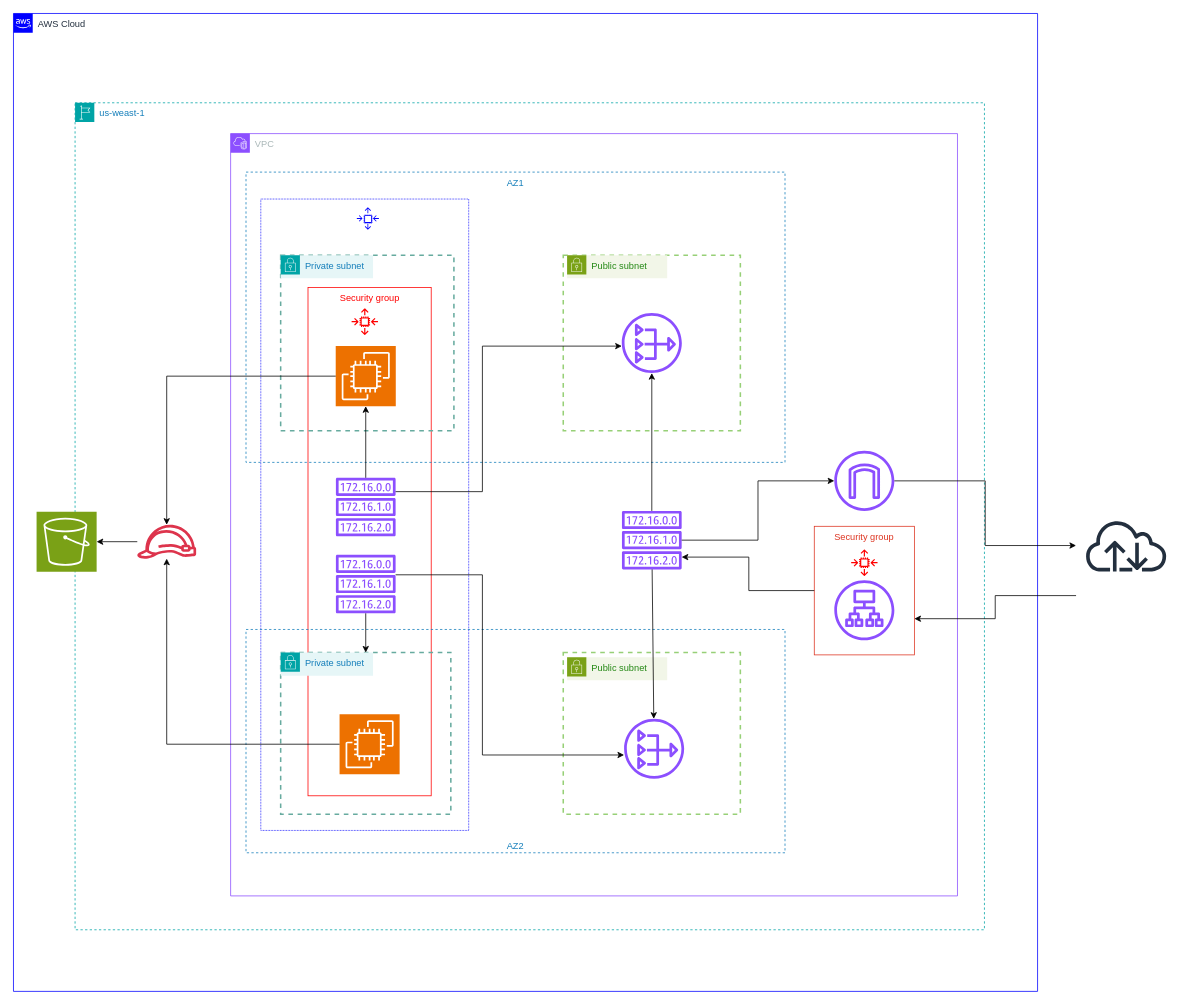
This 1190x1005 diagram has some shape labels left out. The shapes that lost their labels are listed below. From the top down, each one's centre as x and y in pixels, then its label:
(x=367, y=218): Auto Scaling
(x=1125, y=545): Internet
